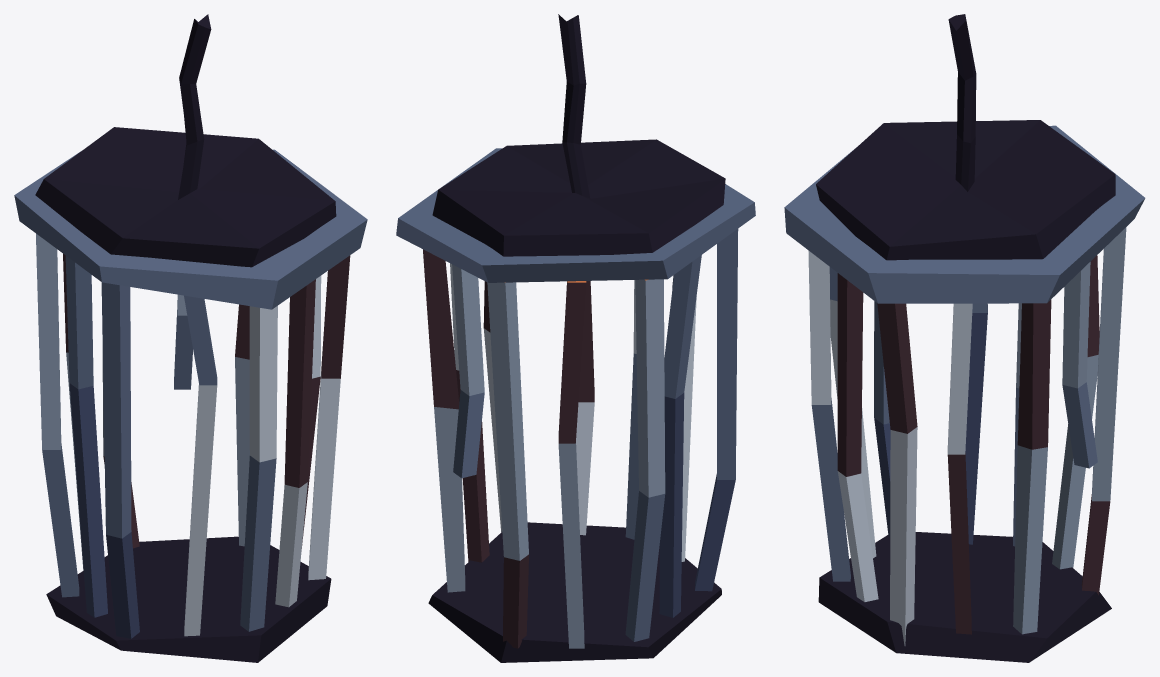
Rendered from jail.glb.
3 renders of one model, left to right at view 1: azimuth 30°, elevation 25°; view 2: azimuth 150°, elevation 25°; view 3: azimuth 270°, elevation 25°, orthographic.
Visible parts, largest first — view 1: Jail; view 2: Jail; view 3: Jail.
Part boxes in pixels (x1,y1,x2,y2): Jail: (14, 14, 367, 662); Jail: (396, 14, 755, 662); Jail: (784, 14, 1145, 662).
Size of the model in its own units: 0.9839 by 2.03 by 1.11.
Materials: 1 (1 with a texture image).
